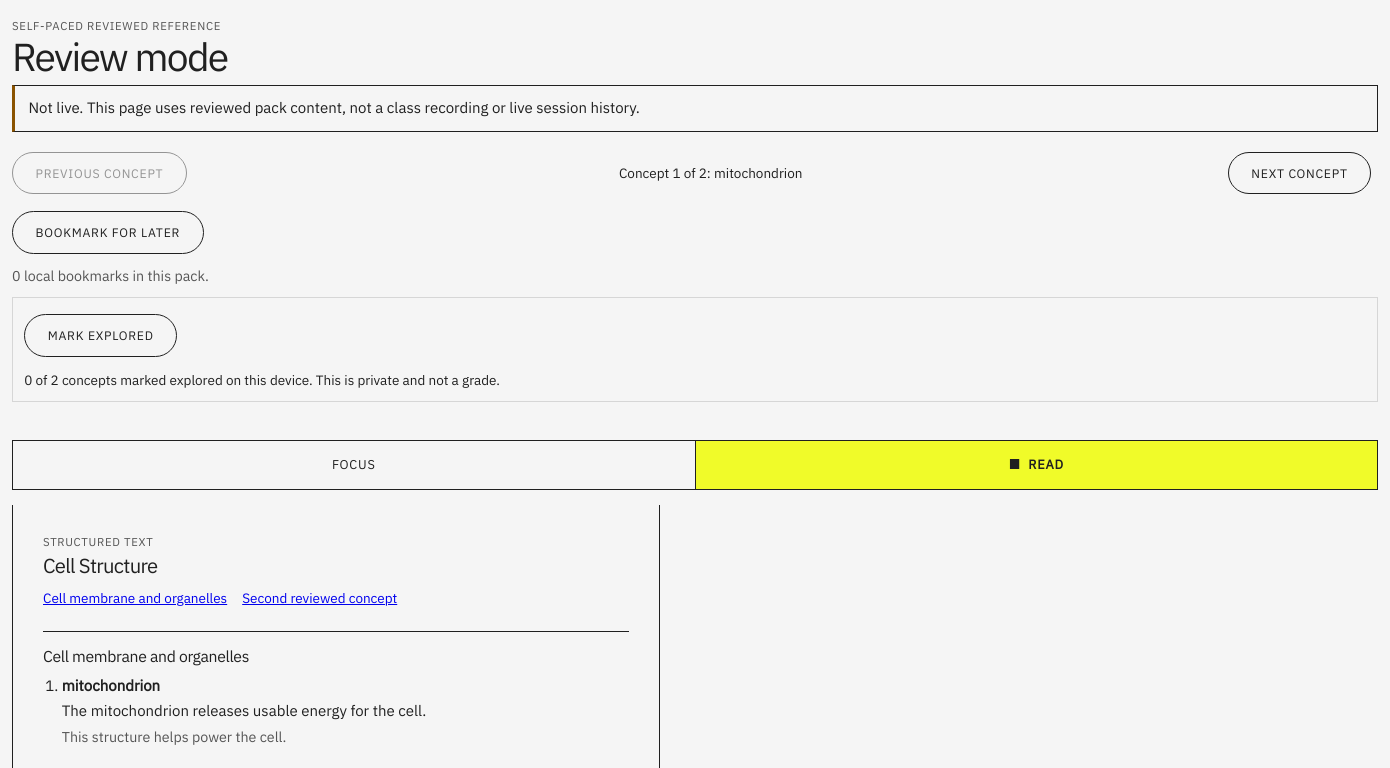
Scenario: ReviewExperience › records only an explicit private explored mark
This screenshot has width=1390, height=768.
Click the button "Mark explored": (101, 336) x1=24 y1=314 x2=177 y2=357
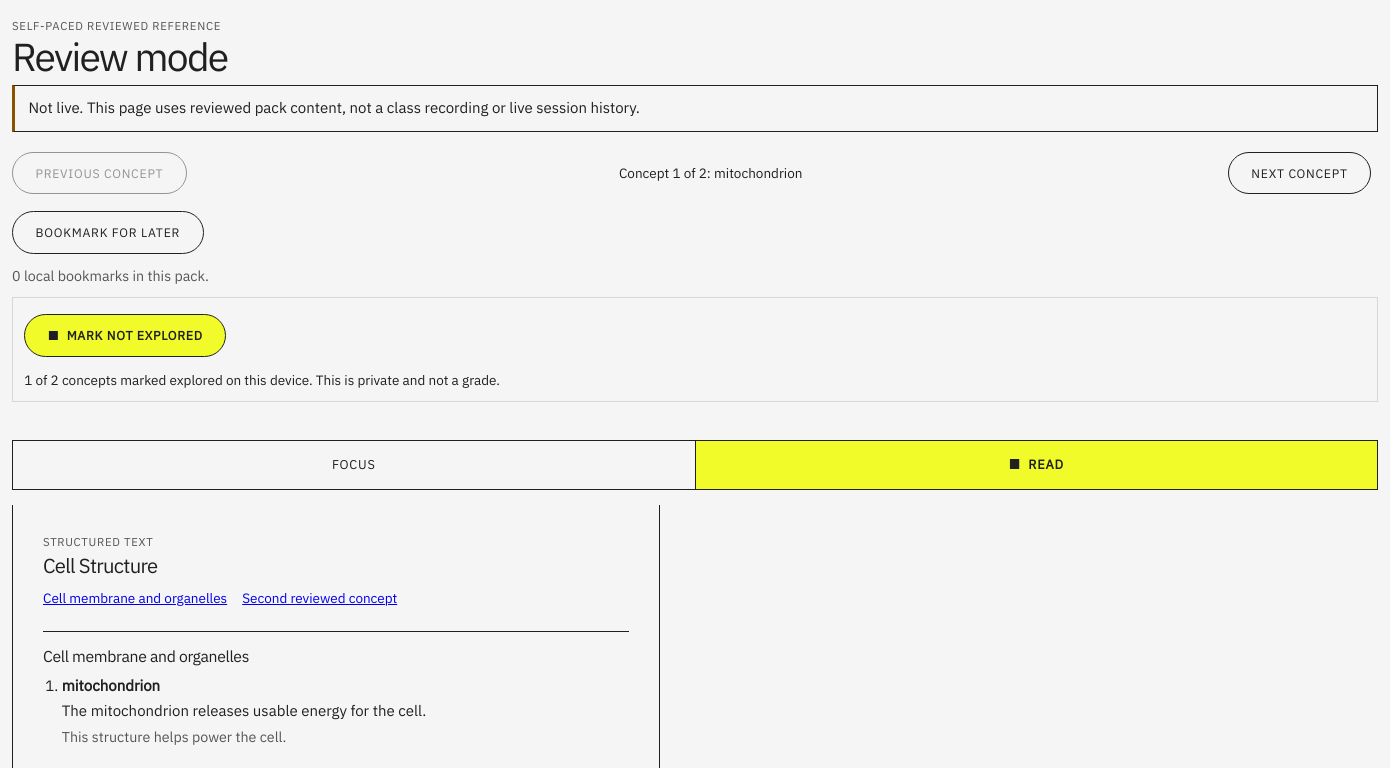
Expected: the text "1 of 2 concepts marked explored on this device. This is private and not a grade." is shown, x1=24 y1=371 x2=500 y2=389
